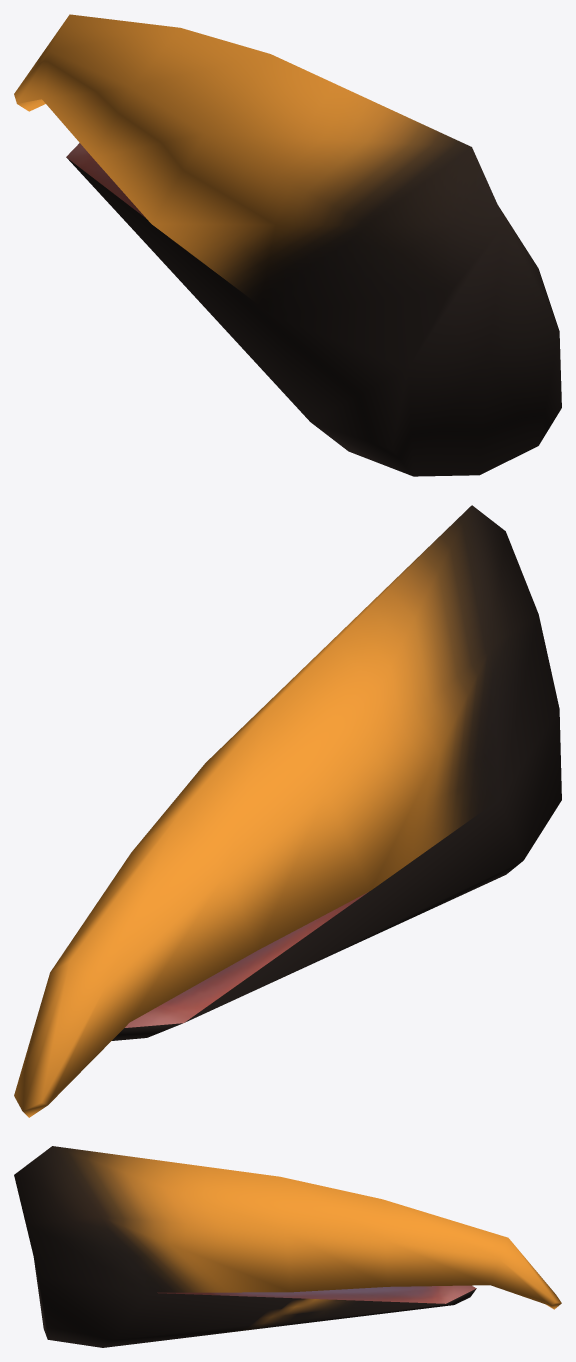
File: BicoFrutas.fbx
The picture shows the model from 3 angles, top to bottom: view 1: azimuth 30°, elevation 25°; view 2: azimuth 150°, elevation 25°; view 3: azimuth 270°, elevation 25°; orthographic projection. The views are drawn at different scales.
Visible parts, largest first — view 1: Plane; view 2: Plane; view 3: Plane.
Part boxes in pixels (x1,y1,x2,y2): Plane: [14, 14, 561, 476]; Plane: [14, 505, 561, 1117]; Plane: [14, 1146, 561, 1347].
Bounding box in the file's own units: 19.34 × 26.43 × 71.45.
